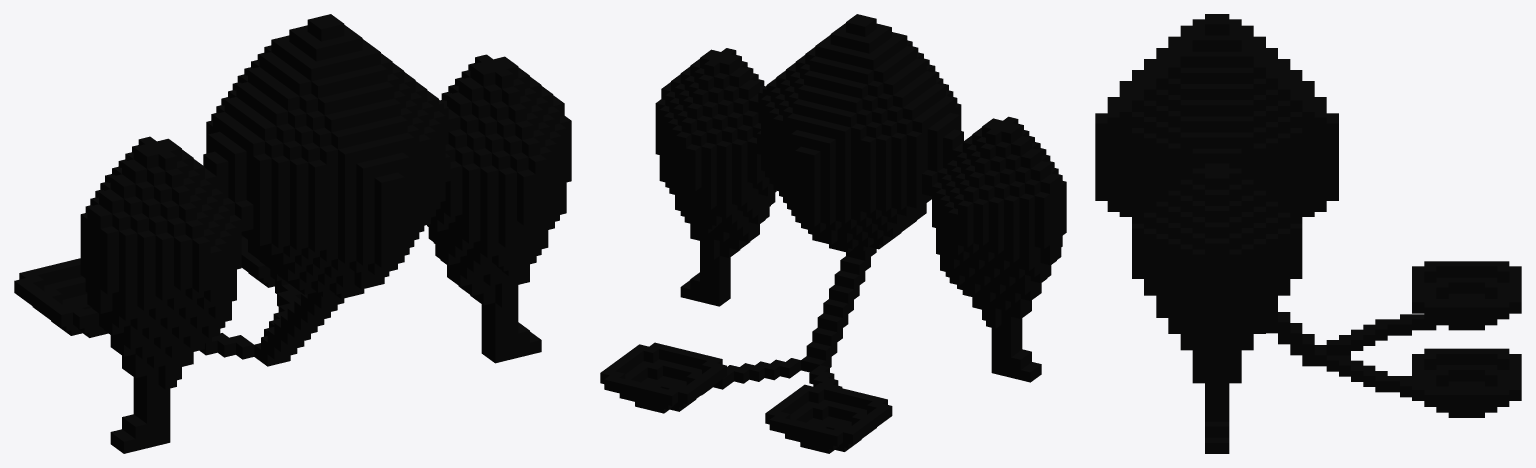
File: StandardTurret.obj
3 views of the same model, side by side, from view 1: azimuth 30°, elevation 25°; view 2: azimuth 150°, elevation 25°; view 3: azimuth 270°, elevation 25° (orthographic). The views are drawn at different scales.
Bounding box in the file's own units: 40 × 31 × 35.
